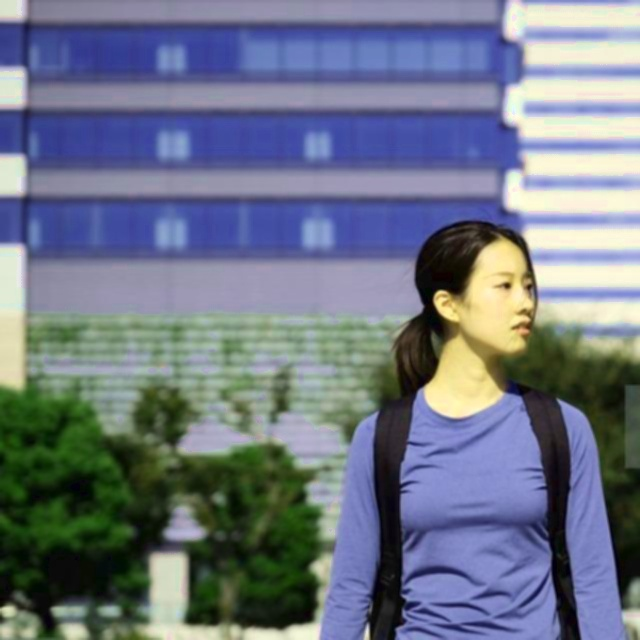Sin_Casco_Mascarrilla: (415, 220, 537, 361)
Sin_Chaleco: (344, 382, 598, 638)
